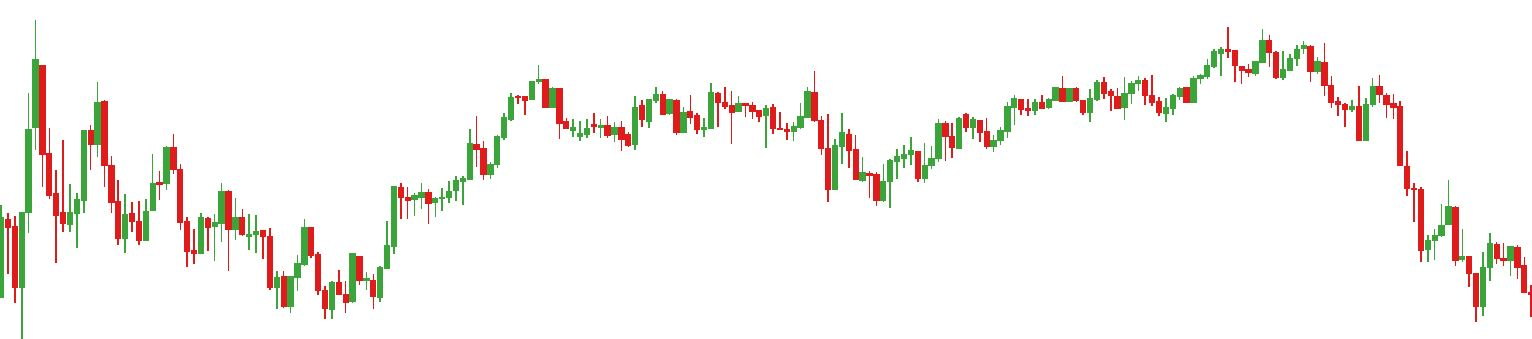buy: (279, 252, 336, 323)
sell: (764, 73, 820, 130)
